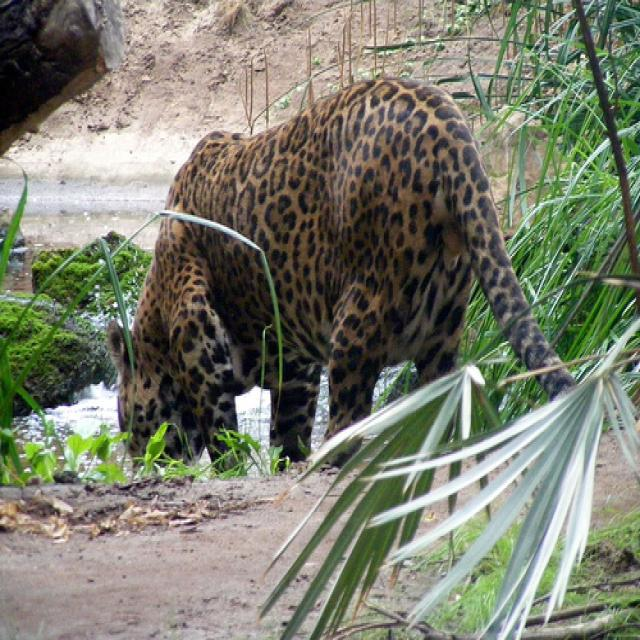Leopard: (101, 68, 580, 470)
